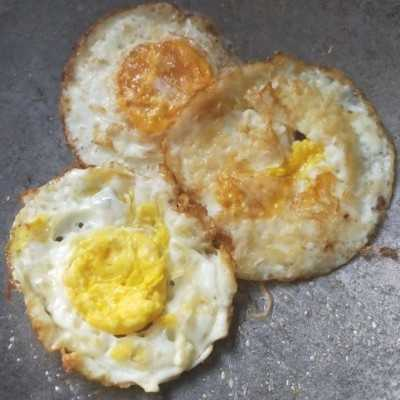Telur: (16, 150, 235, 400), (178, 47, 389, 296), (39, 14, 254, 172)
